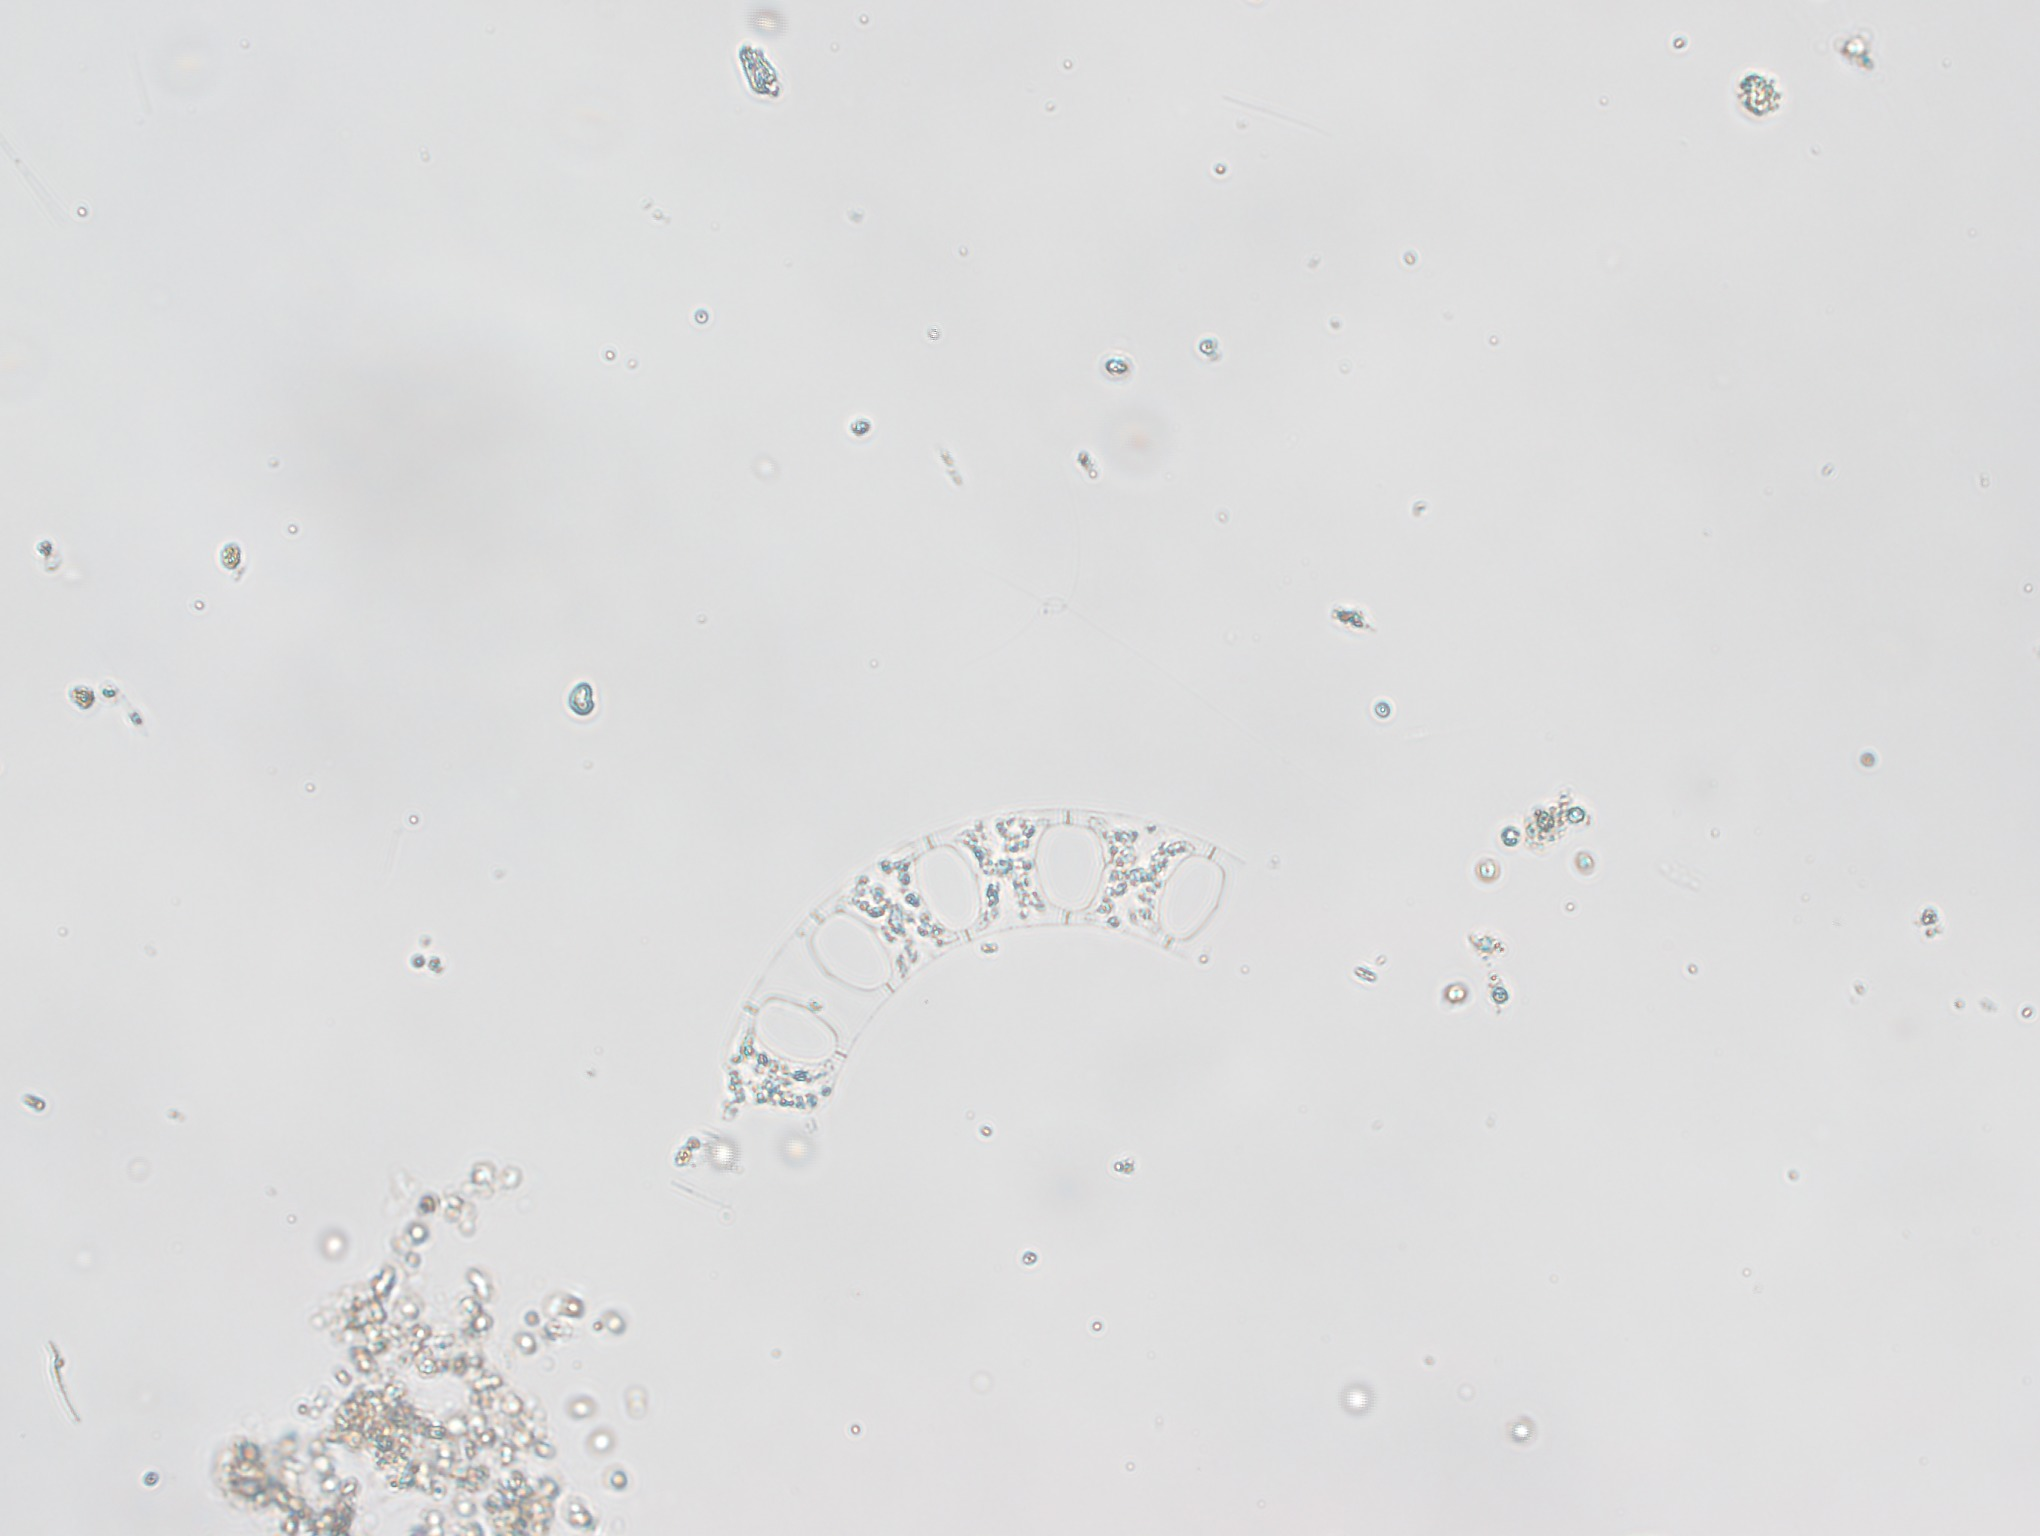eucampia: (711, 803, 1263, 1134)
